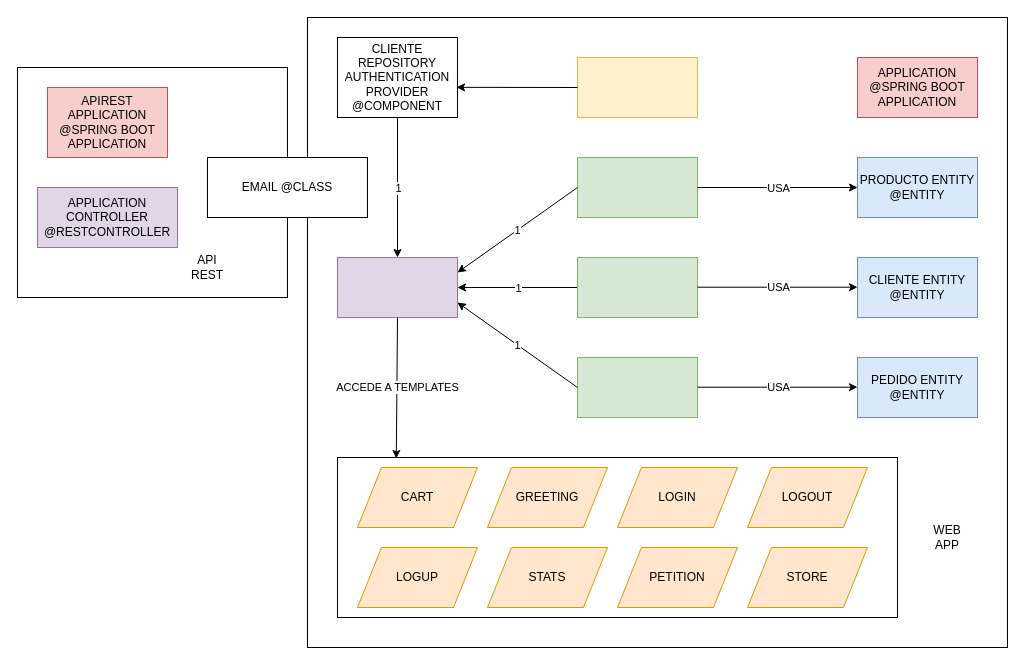
The diagram is 1025 pixels wide and 665 high, and some of its shapes have lost their labels. The shapes that lost their labels are listed below. From the top down, each one's centre as x and y in pixels, then its label:
At (637,87): "SECURITY CONFIG @CONFIGURATION".
At (637,187): "PRODUCTO REPOSITORY @REPOSITORY".
At (397,287): "APPLICATION CONTROLLER @CONTROLLER".
At (637,287): "CLIENTE REPOSITORY @REPOSITORY".
At (637,387): "PEDIDO REPOSITORY @REPOSITORY".
